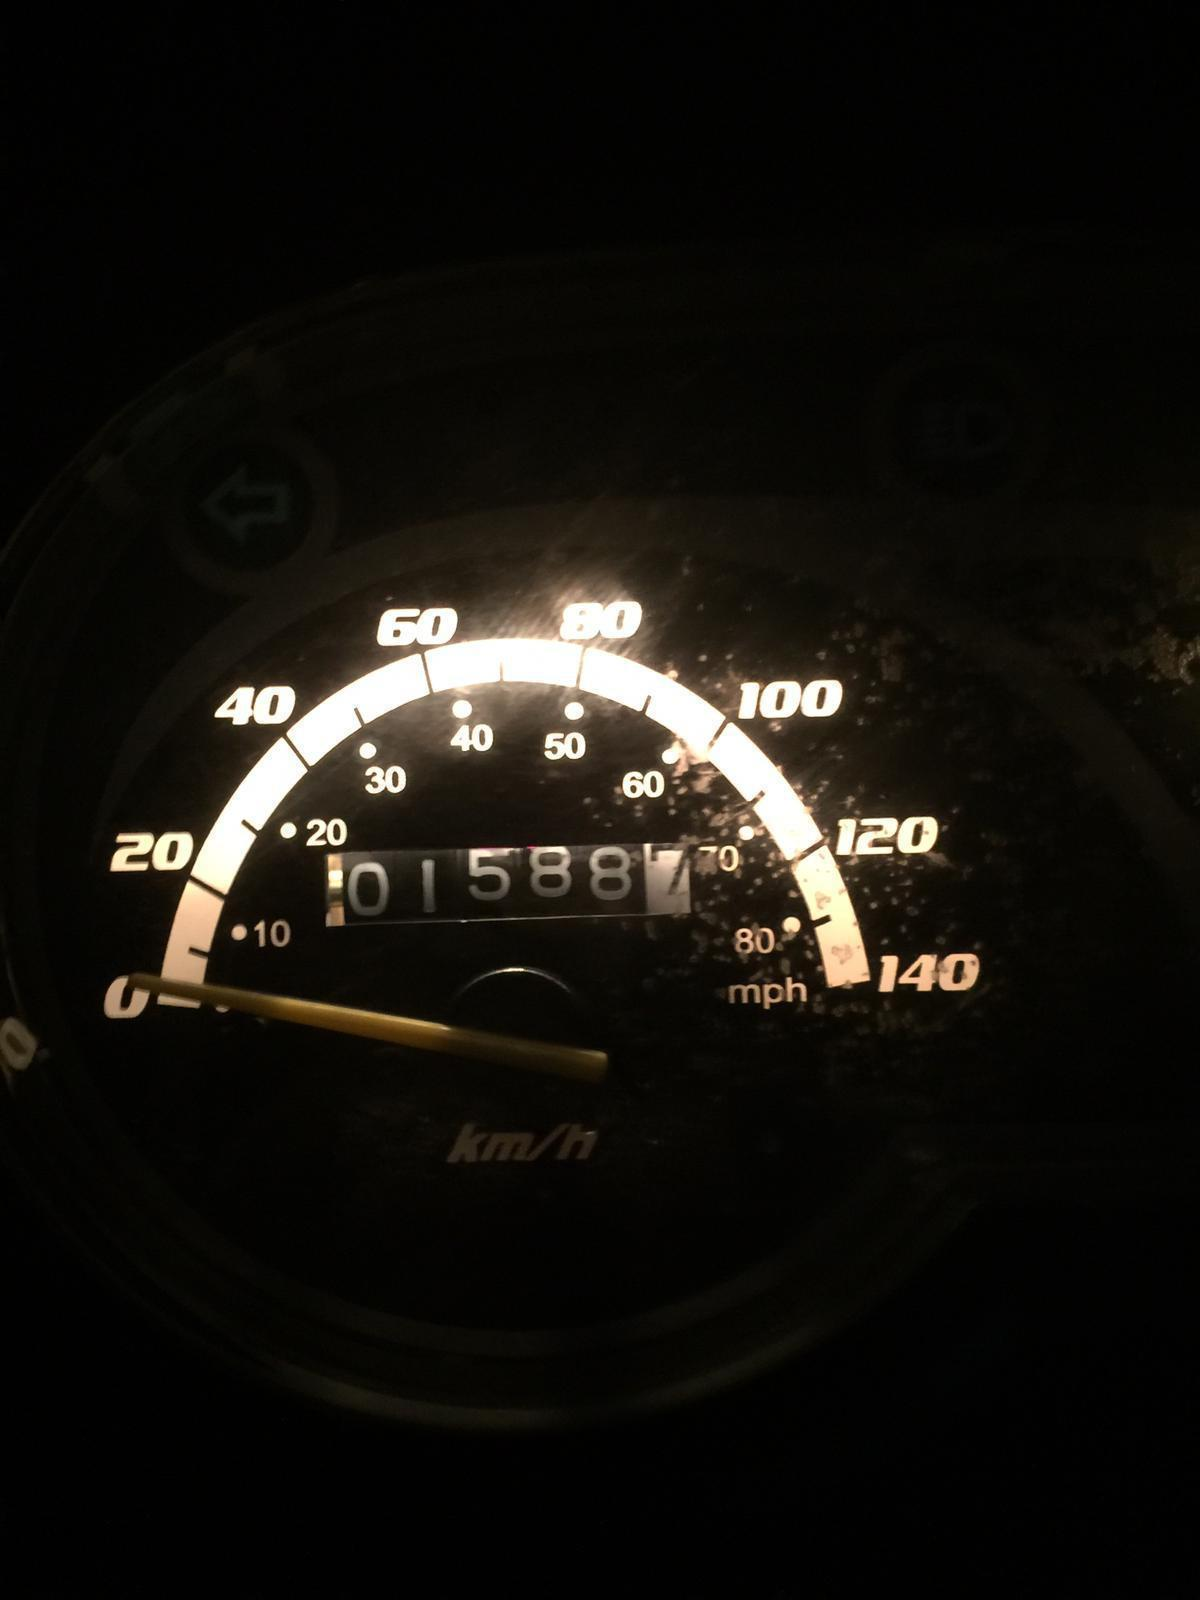0: (345, 859, 395, 918)
1: (413, 850, 447, 918)
5: (464, 845, 517, 907)
7: (644, 843, 697, 913)
8: (527, 845, 579, 910), (584, 845, 634, 908)
odometer: (313, 842, 707, 934)
